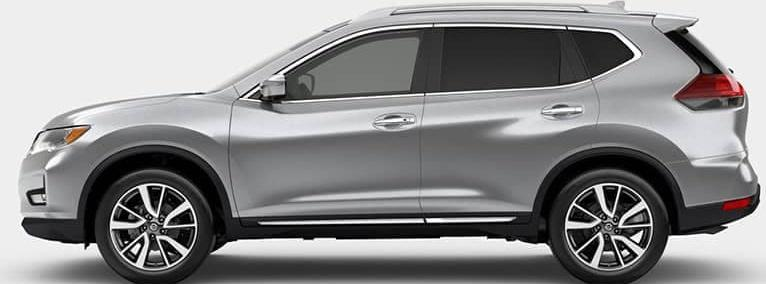SUV: (20, 5, 761, 282)
